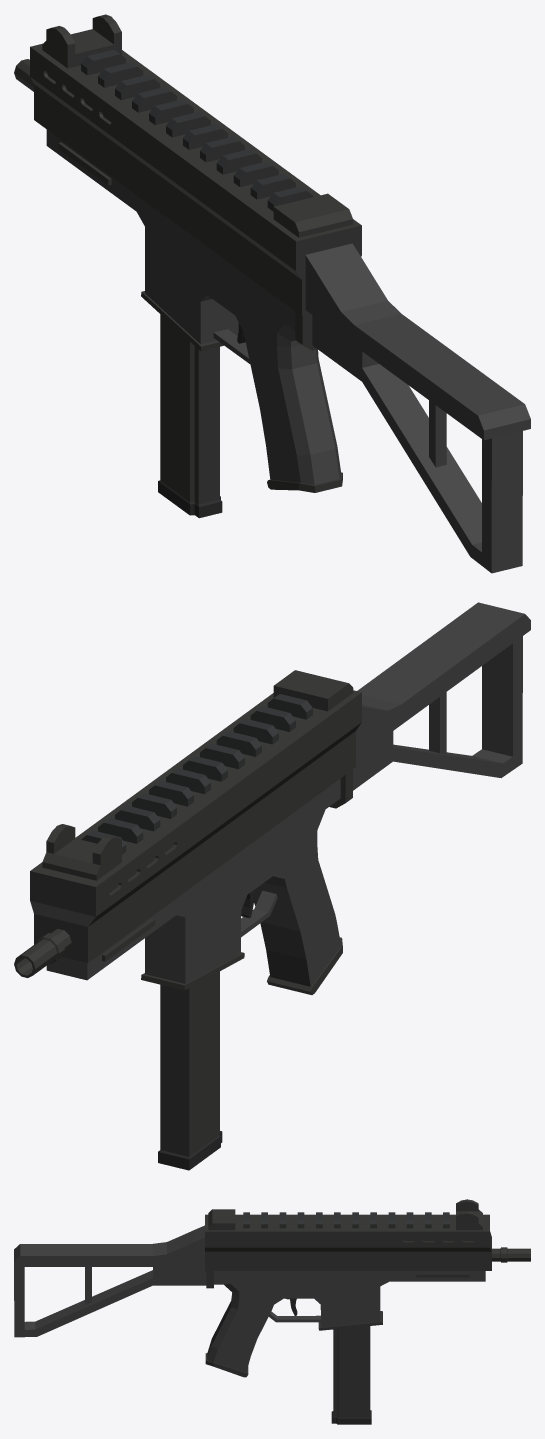
Rendered from smg.glb.
The picture shows the model from 3 angles, top to bottom: view 1: azimuth 30°, elevation 25°; view 2: azimuth 150°, elevation 25°; view 3: azimuth 270°, elevation 25°; orthographic projection. The views are drawn at different scales.
Parts seen in each view (by area): view 1: SubmachineGun_2; view 2: SubmachineGun_2; view 3: SubmachineGun_2.
Boxes of the visible parts, x1,y1,x2,y2 form: SubmachineGun_2: (14,14,530,573); SubmachineGun_2: (14,602,530,1170); SubmachineGun_2: (14,1199,530,1424).
Bounding box in the file's own units: 0.0433 × 0.2513 × 0.55.
Materials: 1 (1 with a texture image).
